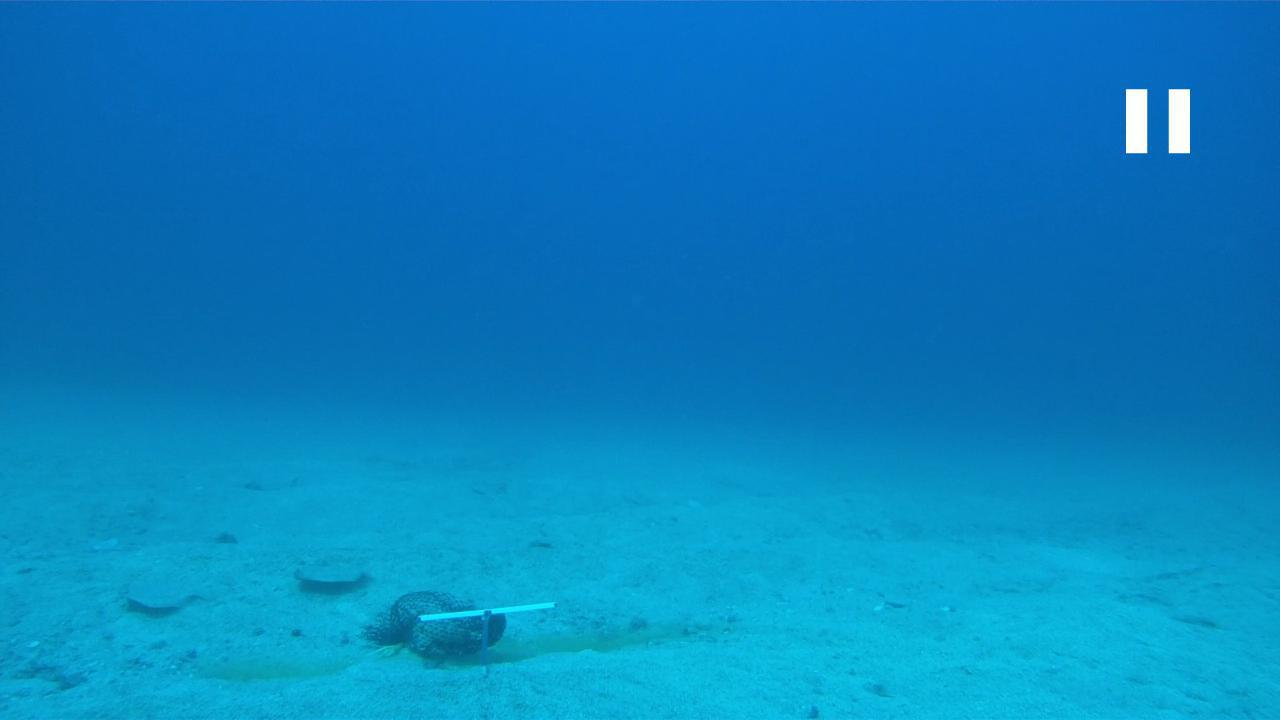bothus: (120, 568, 214, 621), (290, 556, 380, 596)
